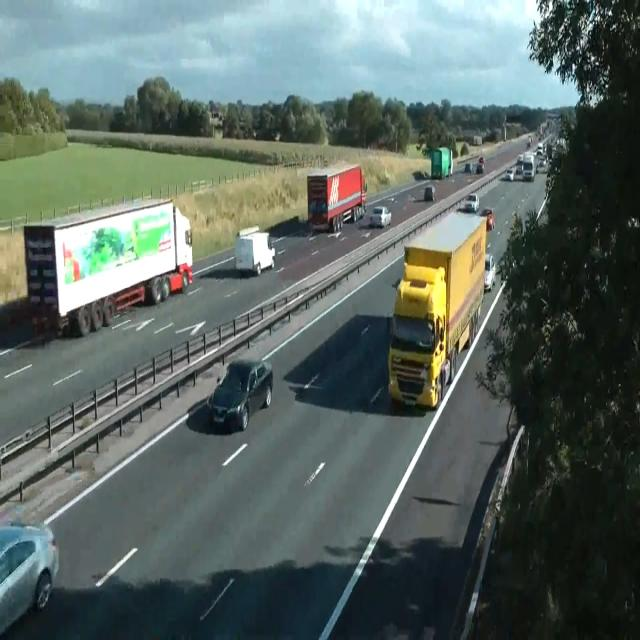bus: (0, 518, 59, 635), (369, 206, 391, 228), (484, 254, 496, 292), (457, 192, 479, 212), (481, 207, 495, 230), (424, 185, 436, 203), (465, 162, 483, 173), (536, 159, 548, 173), (342, 208, 352, 222), (505, 167, 514, 181), (464, 162, 472, 172), (517, 152, 523, 163), (476, 164, 483, 173), (479, 156, 485, 164)
jeep: (207, 356, 273, 432)
minibus: (23, 196, 193, 338), (387, 210, 487, 410), (307, 163, 367, 233), (234, 226, 276, 276), (430, 146, 452, 180)
